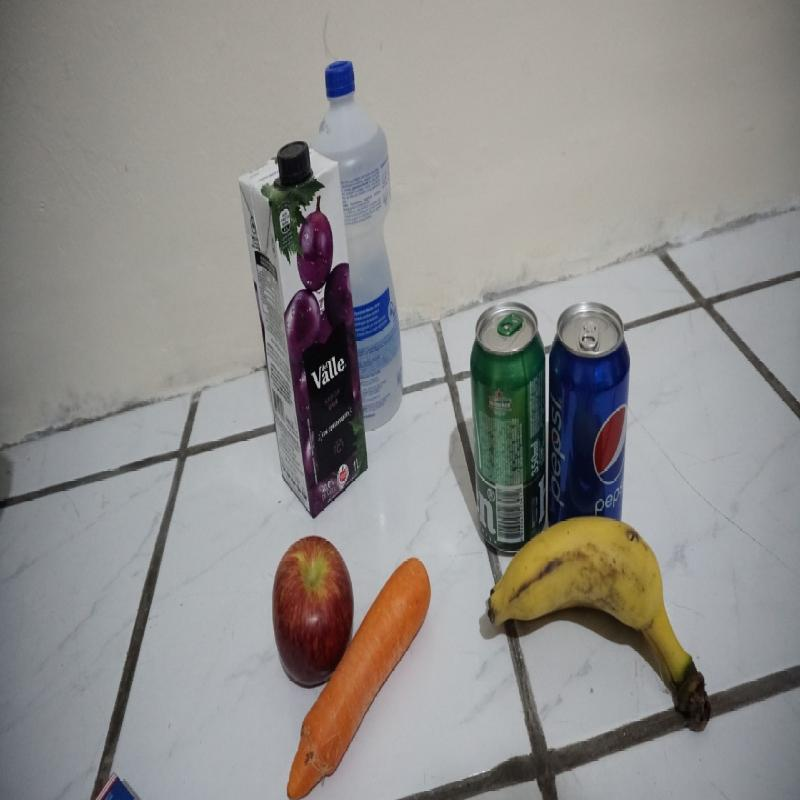Alcohol Bottle: (312, 59, 409, 436)
Apple: (271, 535, 355, 684)
Banana: (487, 516, 712, 736)
Beer can: (469, 299, 552, 559)
Carrot: (286, 557, 434, 799)
Gelatine: (84, 770, 139, 796)
Soda can: (550, 299, 632, 535)
